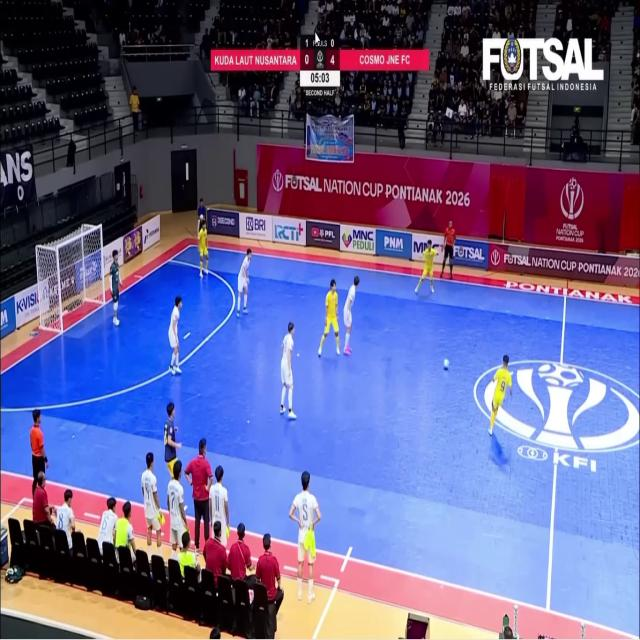keeper: (110, 250, 120, 326)
official: (185, 439, 212, 552), (256, 535, 283, 637), (228, 523, 255, 588), (203, 521, 227, 585), (33, 472, 55, 528)
players: (290, 472, 320, 603), (167, 460, 188, 559), (142, 452, 161, 556), (489, 355, 512, 435), (209, 466, 229, 546), (319, 280, 340, 356), (281, 322, 296, 419), (343, 276, 359, 354), (56, 489, 76, 550), (415, 240, 437, 293), (169, 296, 182, 374), (237, 249, 252, 316), (441, 220, 456, 279), (198, 219, 208, 278)
referee: (30, 410, 48, 494), (441, 220, 456, 279)
